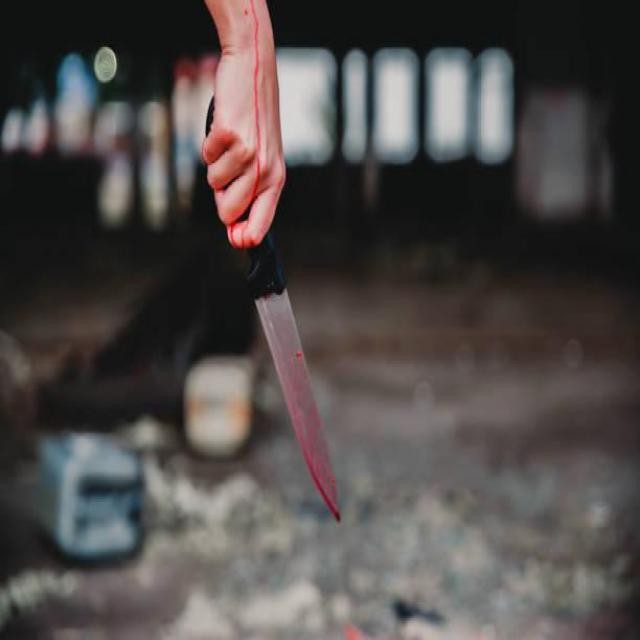faca: (203, 44, 358, 535)
